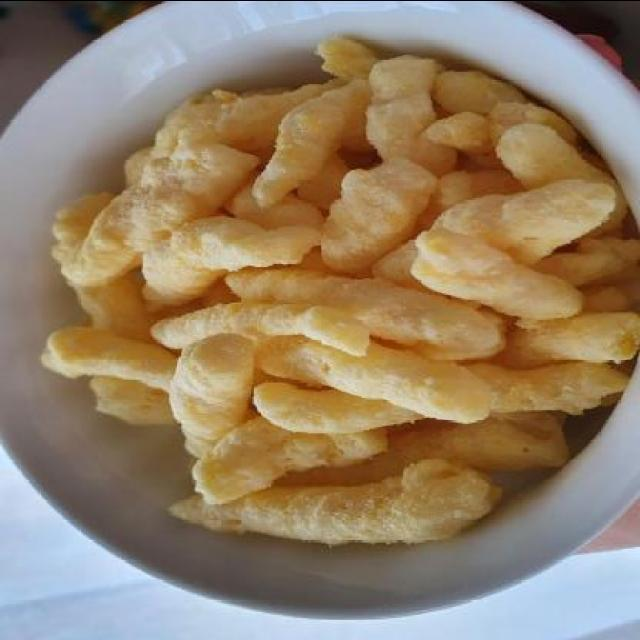Chips packaged: (50, 32, 632, 556)
